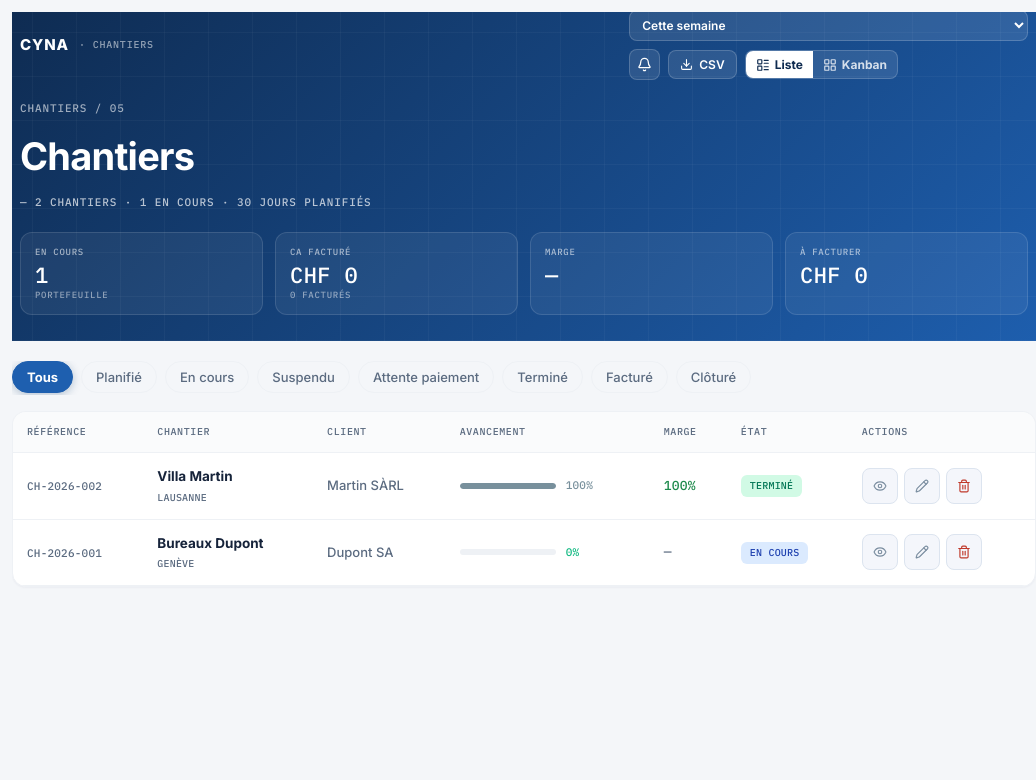
Test: ChantiersPage — liste & filtres › filtre "Terminé" → ne montre que le chantier terminé
Click the button "Terminé": point(543, 377) x1=502 y1=361 x2=583 y2=393
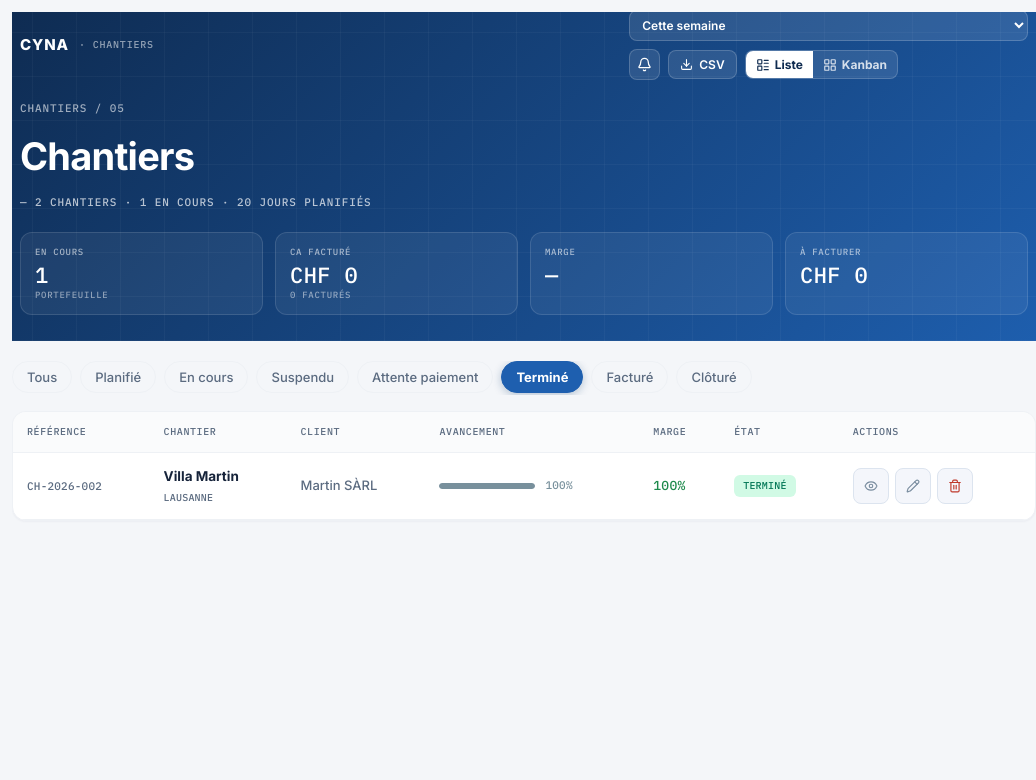
Expected: the text "Villa Martin" is shown, x1=164 y1=468 x2=239 y2=484
Result: the text "Bureaux Dupont" is gone
